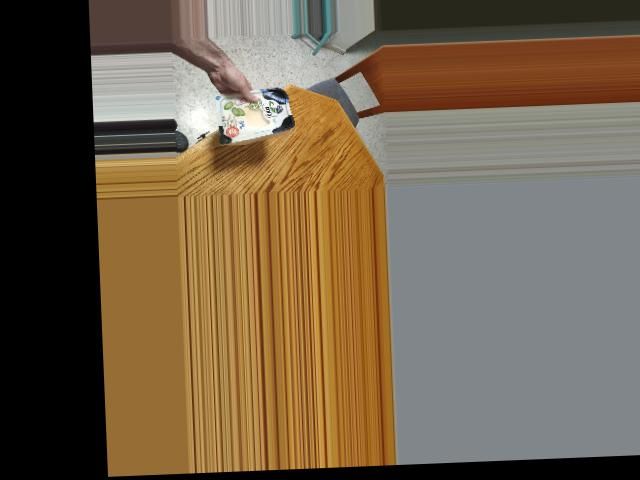cheese: (225, 77, 289, 142)
